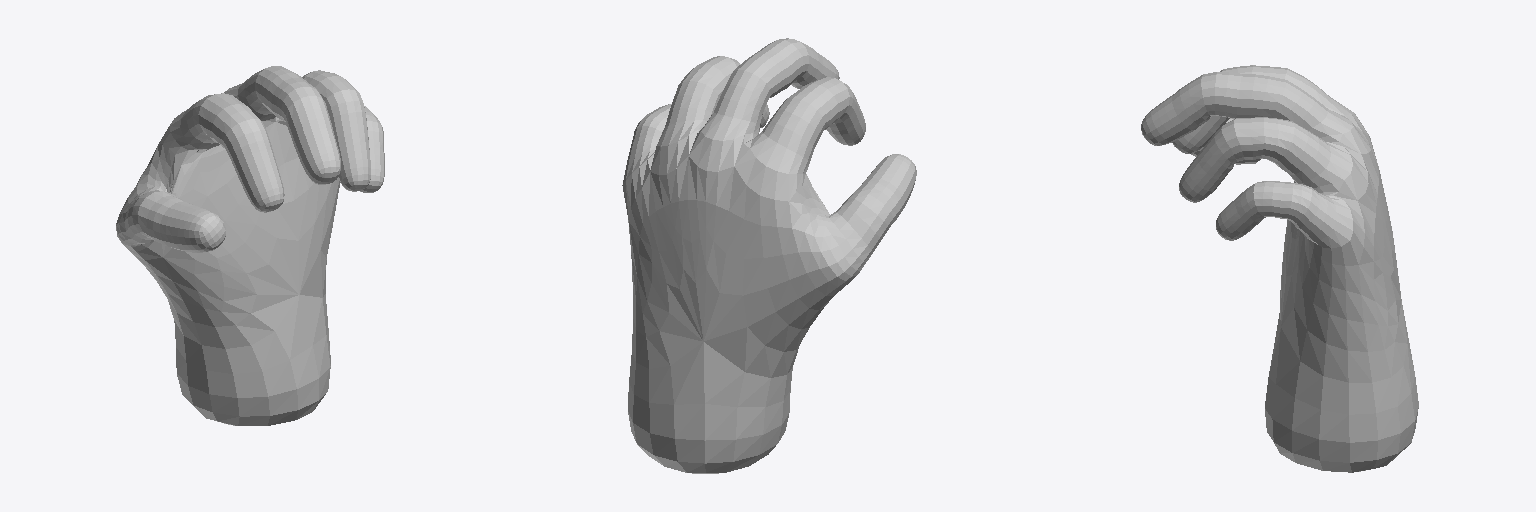
The model's file is handanimatsion43.obj.
3 renders of one model, left to right at view 1: azimuth 30°, elevation 25°; view 2: azimuth 150°, elevation 25°; view 3: azimuth 270°, elevation 25°, orthographic.
Visible parts, largest first — view 1: Cube; view 2: Cube; view 3: Cube.
Part boxes in pixels (x1,y1,x2,y2): Cube: (116,66,384,425); Cube: (622,38,916,473); Cube: (1141,65,1418,472).
Size of the model in its own units: 3.21 by 4.77 by 3.18.